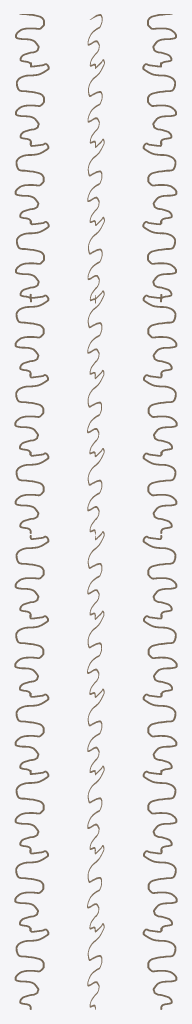
Rendered from Smooth Robo-Snicket (6).glb.
3 renders of one model, left to right at view 1: azimuth 90°, elevation 25°; view 2: azimuth 150°, elevation 25°; view 3: azimuth 270°, elevation 25°, orthographic.
Parts seen in each view (by area): view 1: Mesh_Mesh_head_geo.001_lambert2SG.001; view 2: Mesh_Mesh_head_geo.001_lambert2SG.001; view 3: Mesh_Mesh_head_geo.001_lambert2SG.001.
Part boxes in pixels (x1,y1,x2,y2): Mesh_Mesh_head_geo.001_lambert2SG.001: (14, 14, 49, 1009); Mesh_Mesh_head_geo.001_lambert2SG.001: (87, 14, 104, 1009); Mesh_Mesh_head_geo.001_lambert2SG.001: (142, 14, 177, 1009).
Bounding box in the file's own units: 0.000106 × 1.14 × 0.0367.
